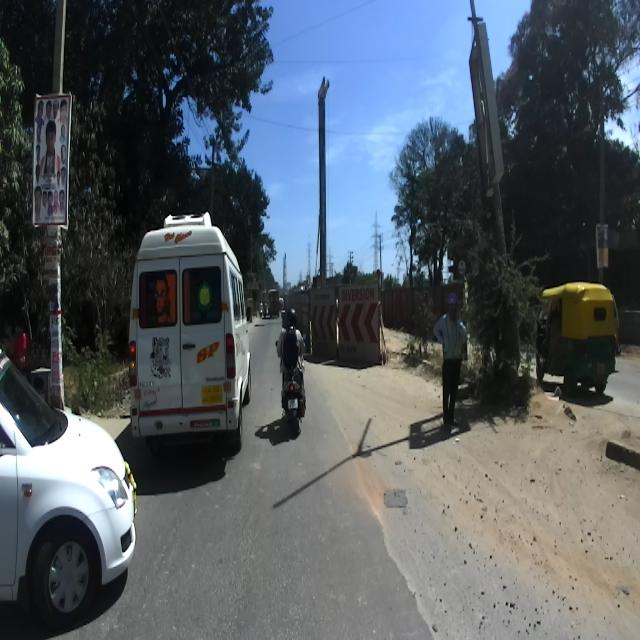auto ahead at: (538, 283, 619, 395)
bus ahead at: (124, 205, 252, 465)
car ahead at: (0, 358, 138, 635)
motorcycle ahead at: (276, 372, 310, 434)
person ahead at: (435, 298, 470, 442)
